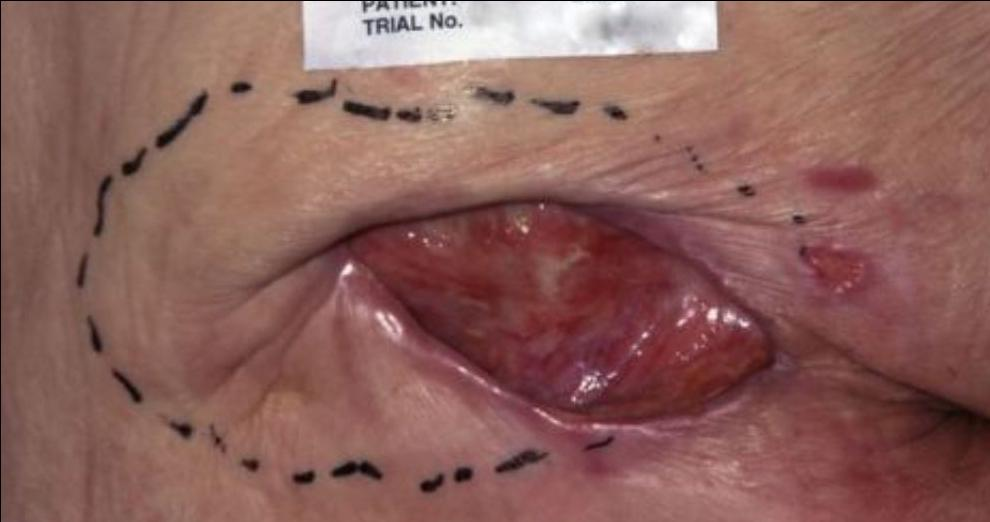Stage3: (328, 137, 927, 513)
